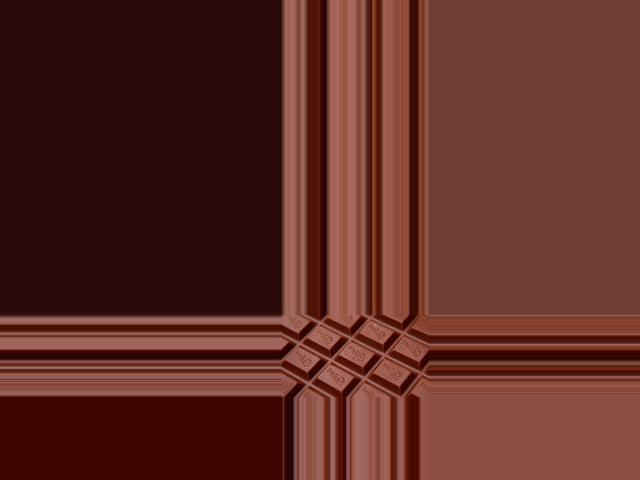chocolate: (285, 317, 428, 398)
